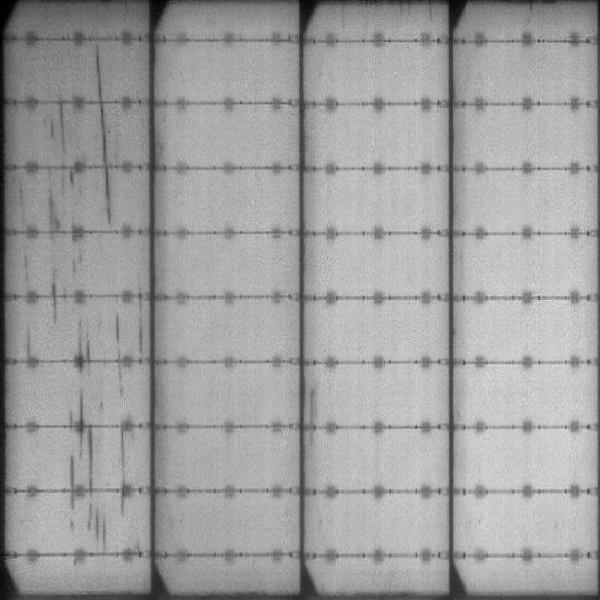scratch: (86, 423, 105, 544), (74, 317, 89, 444), (95, 103, 114, 165), (66, 451, 80, 535), (114, 434, 127, 513), (53, 86, 68, 154), (112, 313, 124, 397), (137, 285, 149, 367), (99, 167, 116, 222), (44, 168, 58, 230), (92, 46, 107, 99), (17, 251, 32, 291), (47, 281, 58, 328), (21, 329, 36, 358)
